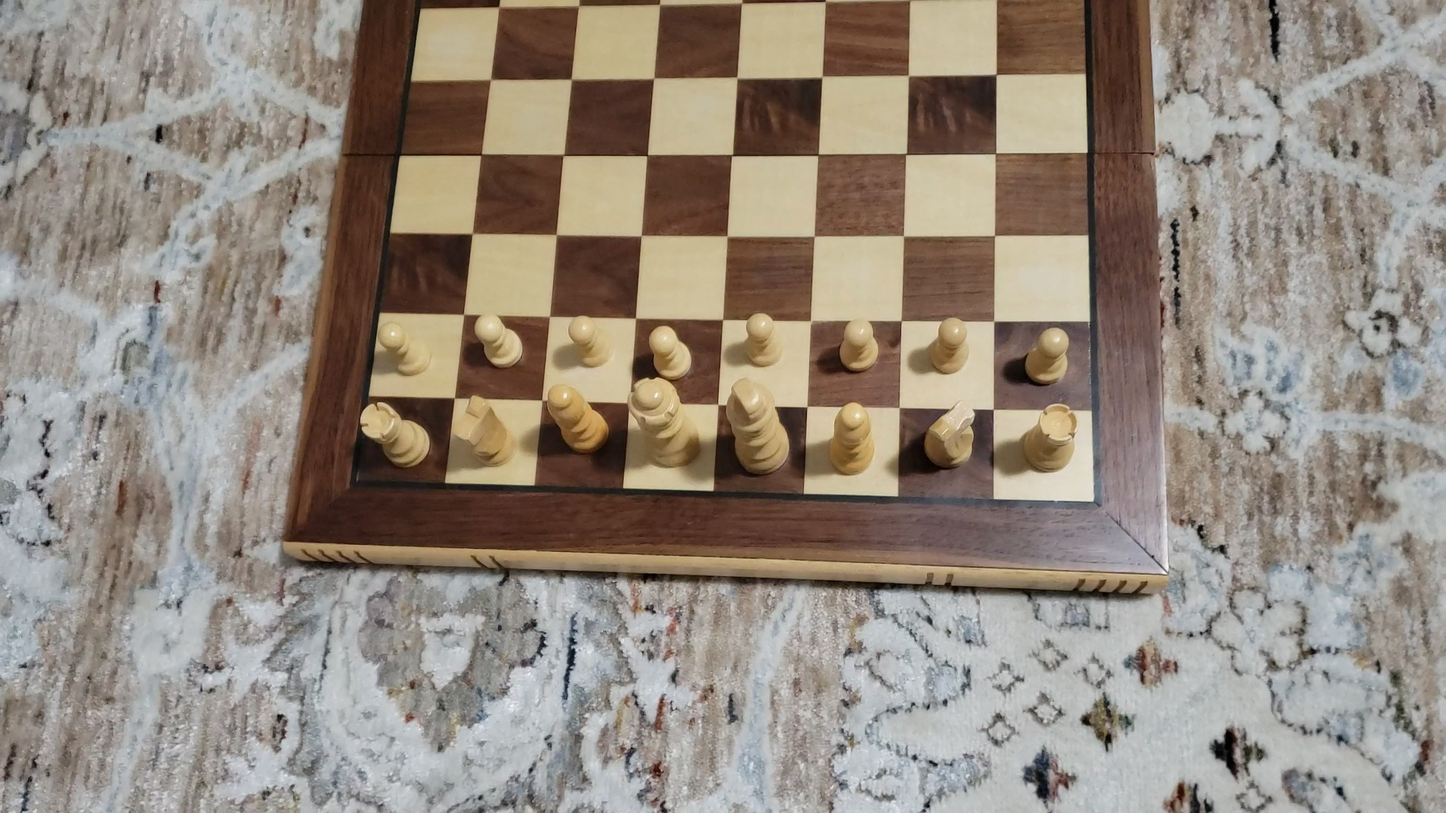white-bishop: (540, 382, 612, 457), (825, 399, 880, 479)
white-king: (719, 375, 792, 479)
white-knight: (456, 392, 517, 470), (920, 397, 979, 473)
white-pawn: (1017, 321, 1075, 390), (374, 319, 435, 379), (923, 312, 974, 378), (471, 311, 525, 370), (737, 308, 787, 371), (834, 313, 883, 376), (564, 311, 613, 370), (646, 322, 694, 381)
white-queen: (626, 377, 705, 471)
white-rook: (358, 400, 432, 471), (1019, 400, 1082, 478)
